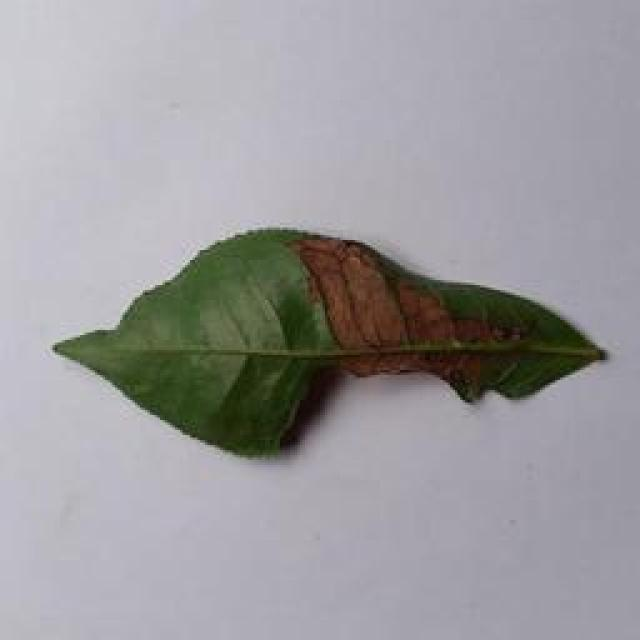Brown Blight: (36, 216, 616, 477)
